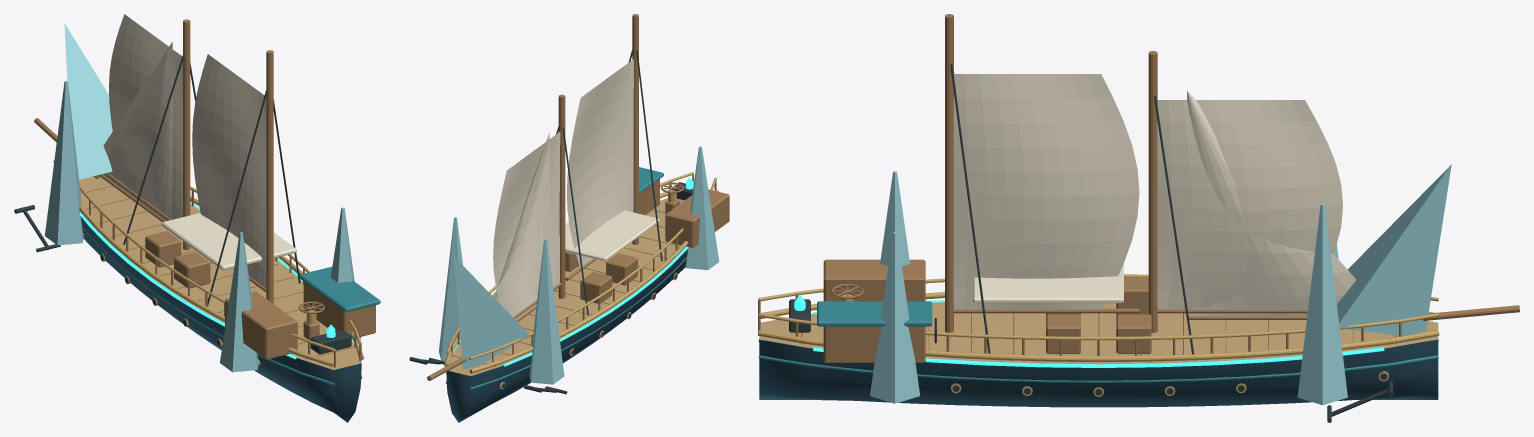
File: premium_imperial_yacht.glb
3 renders of one model, left to right at view 1: azimuth 30°, elevation 25°; view 2: azimuth 150°, elevation 25°; view 3: azimuth 270°, elevation 25°, orthographic. The views are drawn at different scales.
Visible parts, largest first — view 1: premium_imperial_yacht; view 2: premium_imperial_yacht; view 3: premium_imperial_yacht.
Boxes of the visible parts, left/top/right/bottom form: premium_imperial_yacht: left=14, top=14, right=380, bottom=422; premium_imperial_yacht: left=409, top=14, right=729, bottom=422; premium_imperial_yacht: left=758, top=14, right=1519, bottom=422.
Bounding box in the file's own units: 4.34 × 8.43 × 15.15.
